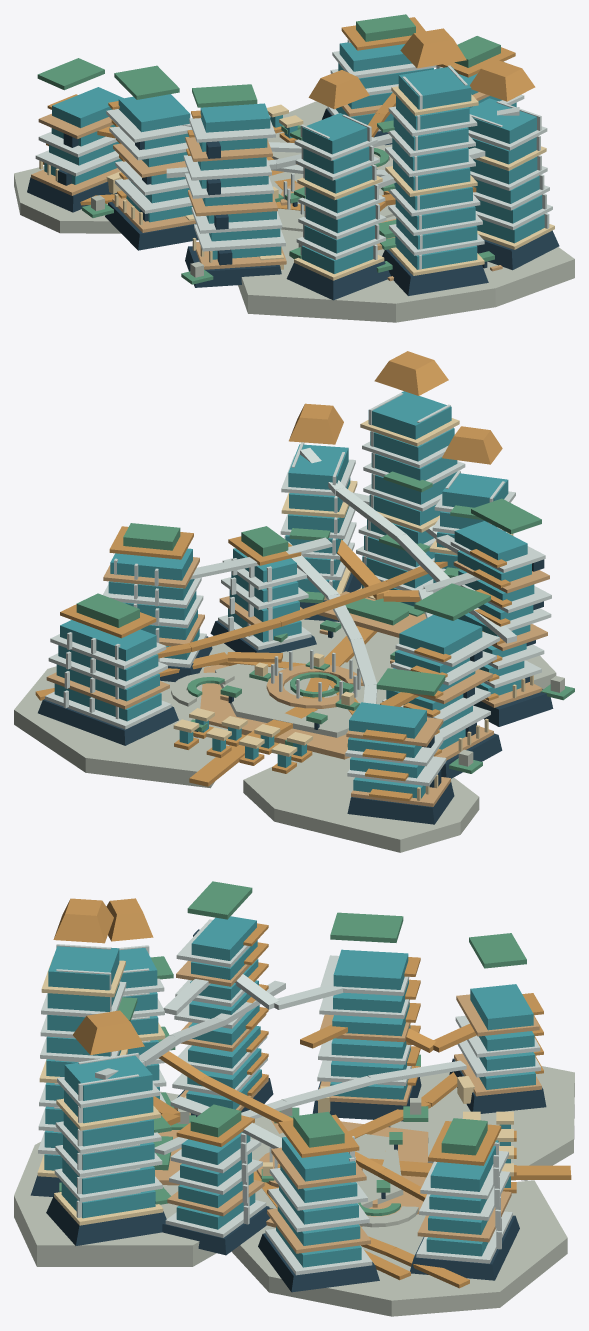
File: a39_district_confluence.obj
3 renders of one model, top to bottom at view 1: azimuth 30°, elevation 25°; view 2: azimuth 150°, elevation 25°; view 3: azimuth 270°, elevation 25°, orthographic. The views are drawn at different scales.
Size of the model in its own units: 555 by 311 by 539.
